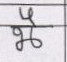ai_matra: (18, 6, 40, 25)
